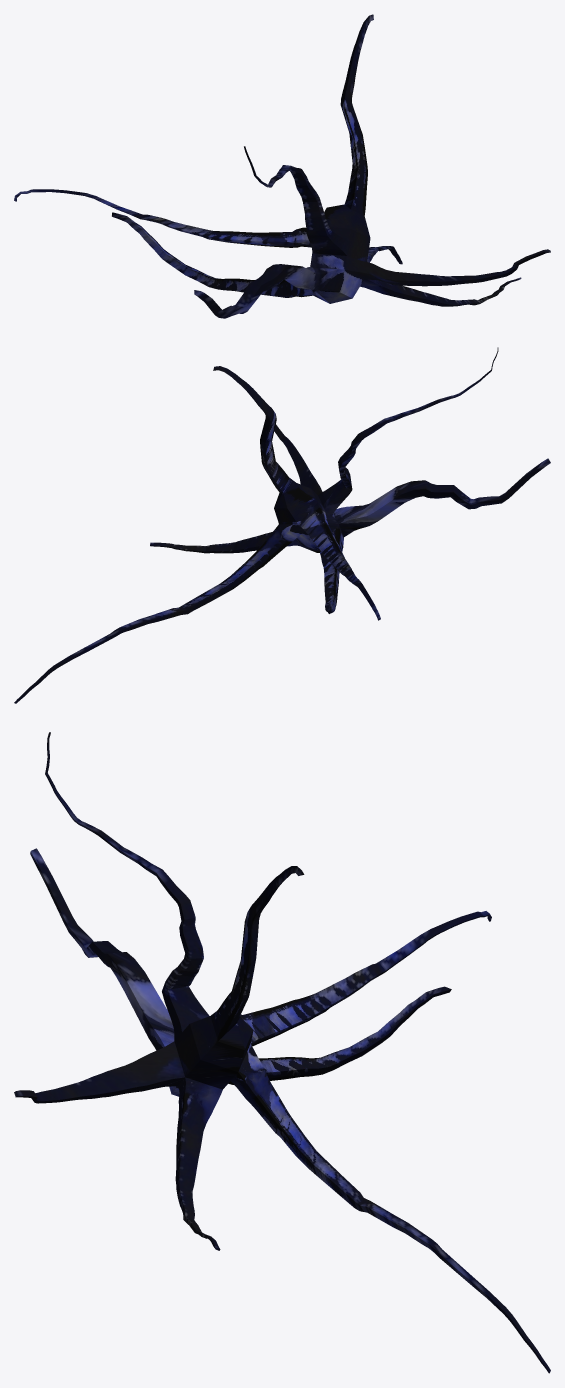
The model's file is big_neuron_maya.fbx.
The picture shows the model from 3 angles, top to bottom: view 1: azimuth 30°, elevation 25°; view 2: azimuth 150°, elevation 25°; view 3: azimuth 270°, elevation 25°; orthographic projection. The views are drawn at different scales.
Visible parts, largest first — view 1: big_neuron_UVs; view 2: big_neuron_UVs; view 3: big_neuron_UVs.
Boxes of the visible parts, <box> form: big_neuron_UVs: <box>14,14,550,318</box>; big_neuron_UVs: <box>14,347,550,703</box>; big_neuron_UVs: <box>14,732,550,1373</box>.
Bounding box in the file's own units: 2905 × 2361 × 2680.
